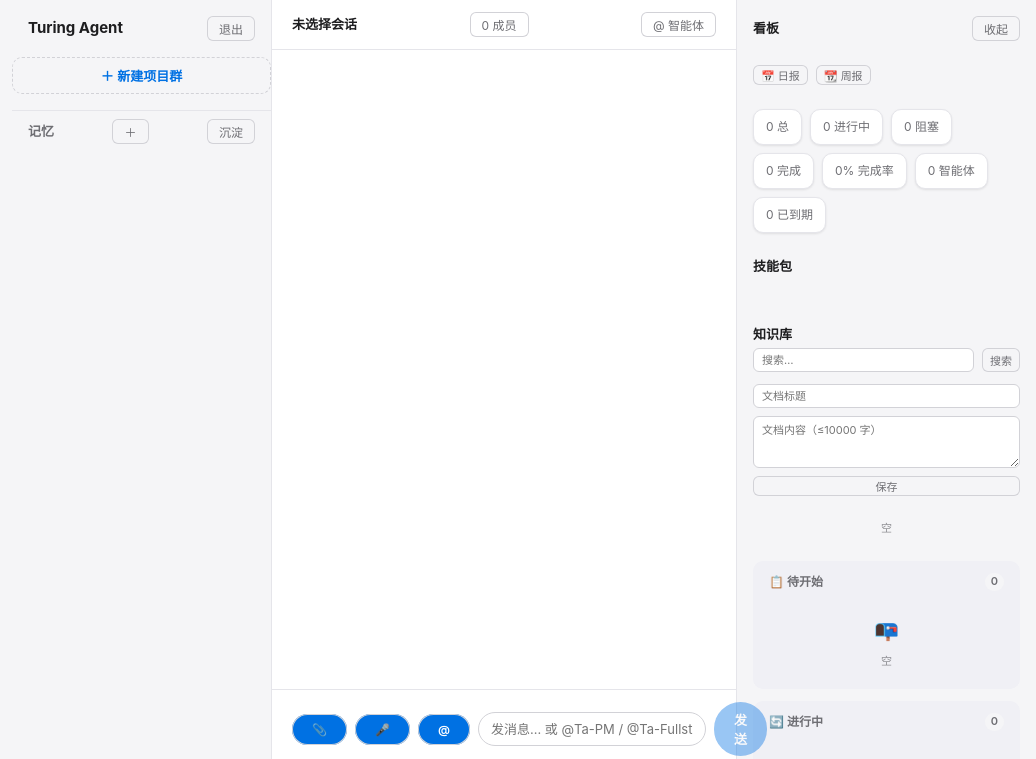
it: Chat › creates and searches kb documents
Expected: the text "知识库" is shown, [753,326,792,342]
In the field with placeholder "文档标题": (886, 396) [753,384,1020,408], type "登录方案"
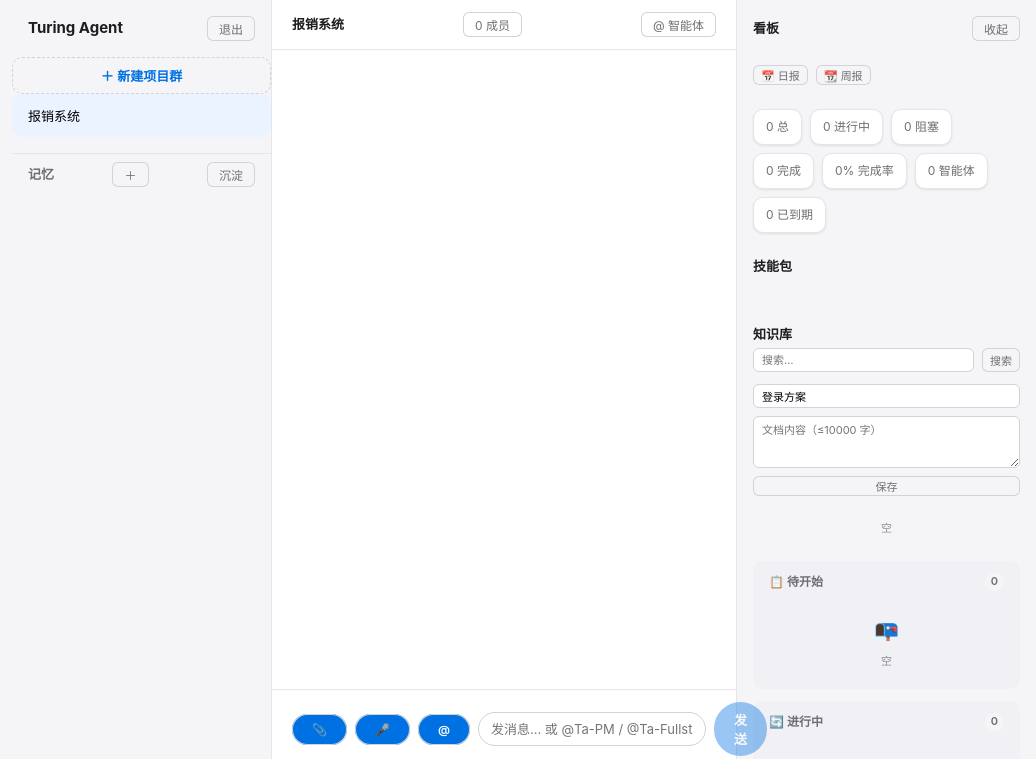
In the text box with placeholder "文档内容（≤10000 字）": (886, 442) [753,416,1020,468], type "JWT 令牌"
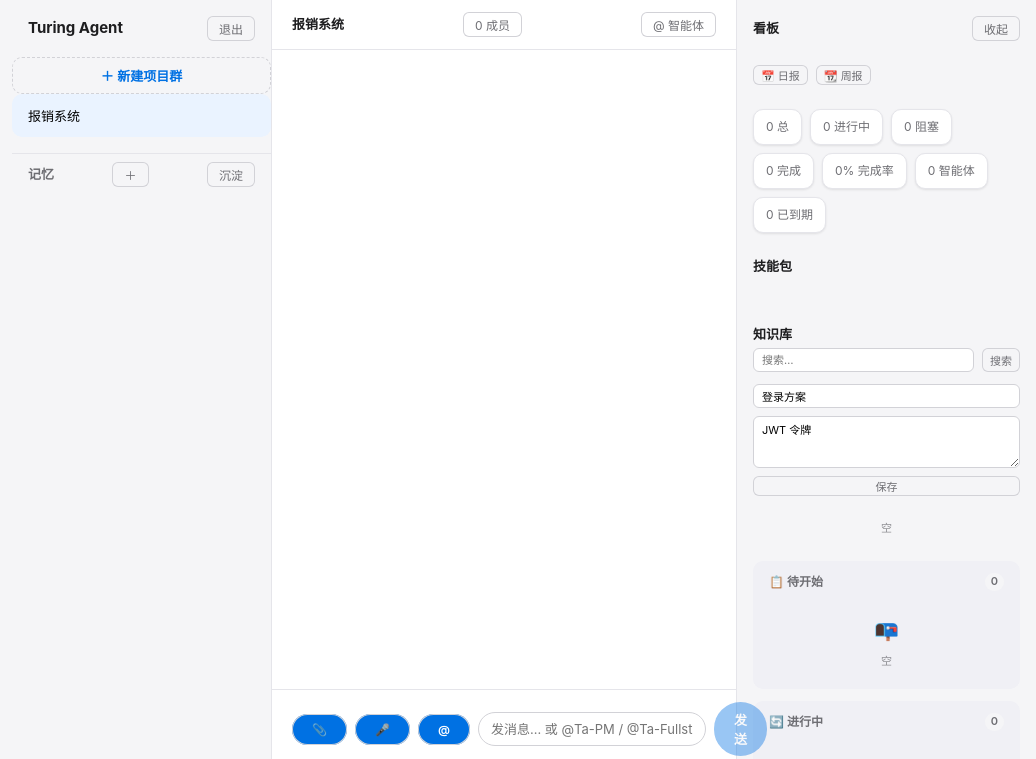
Click the button "保存": (886, 486) [753,476,1020,496]
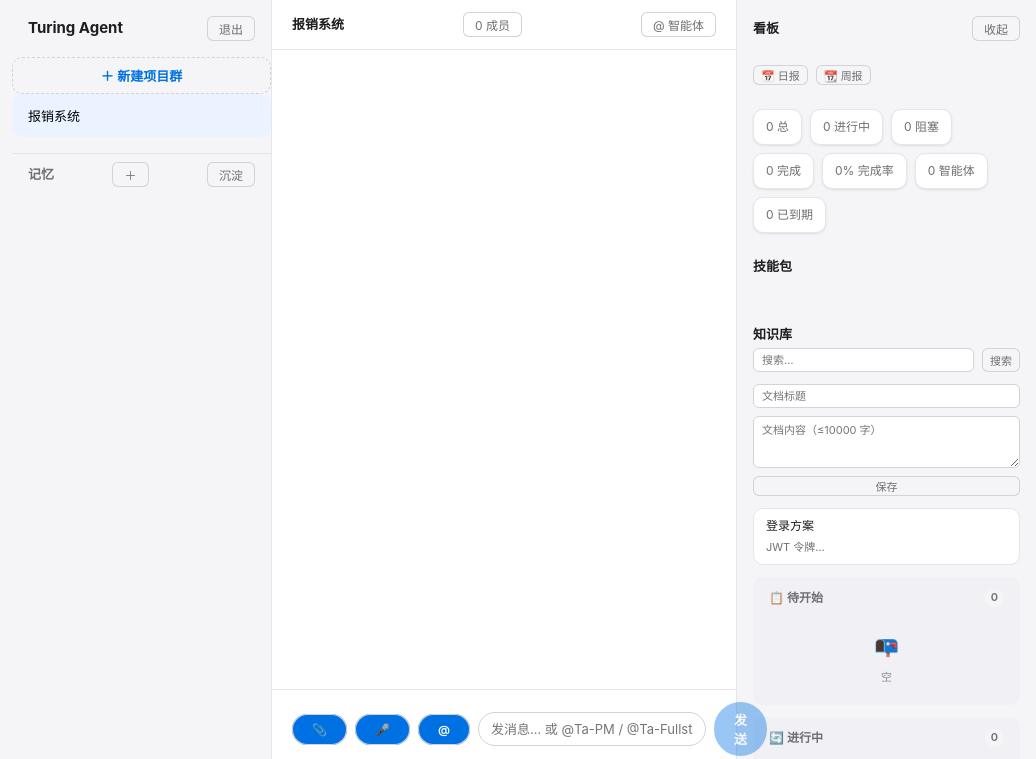
Result: the text "登录方案" is shown at [766,518,814,533]
